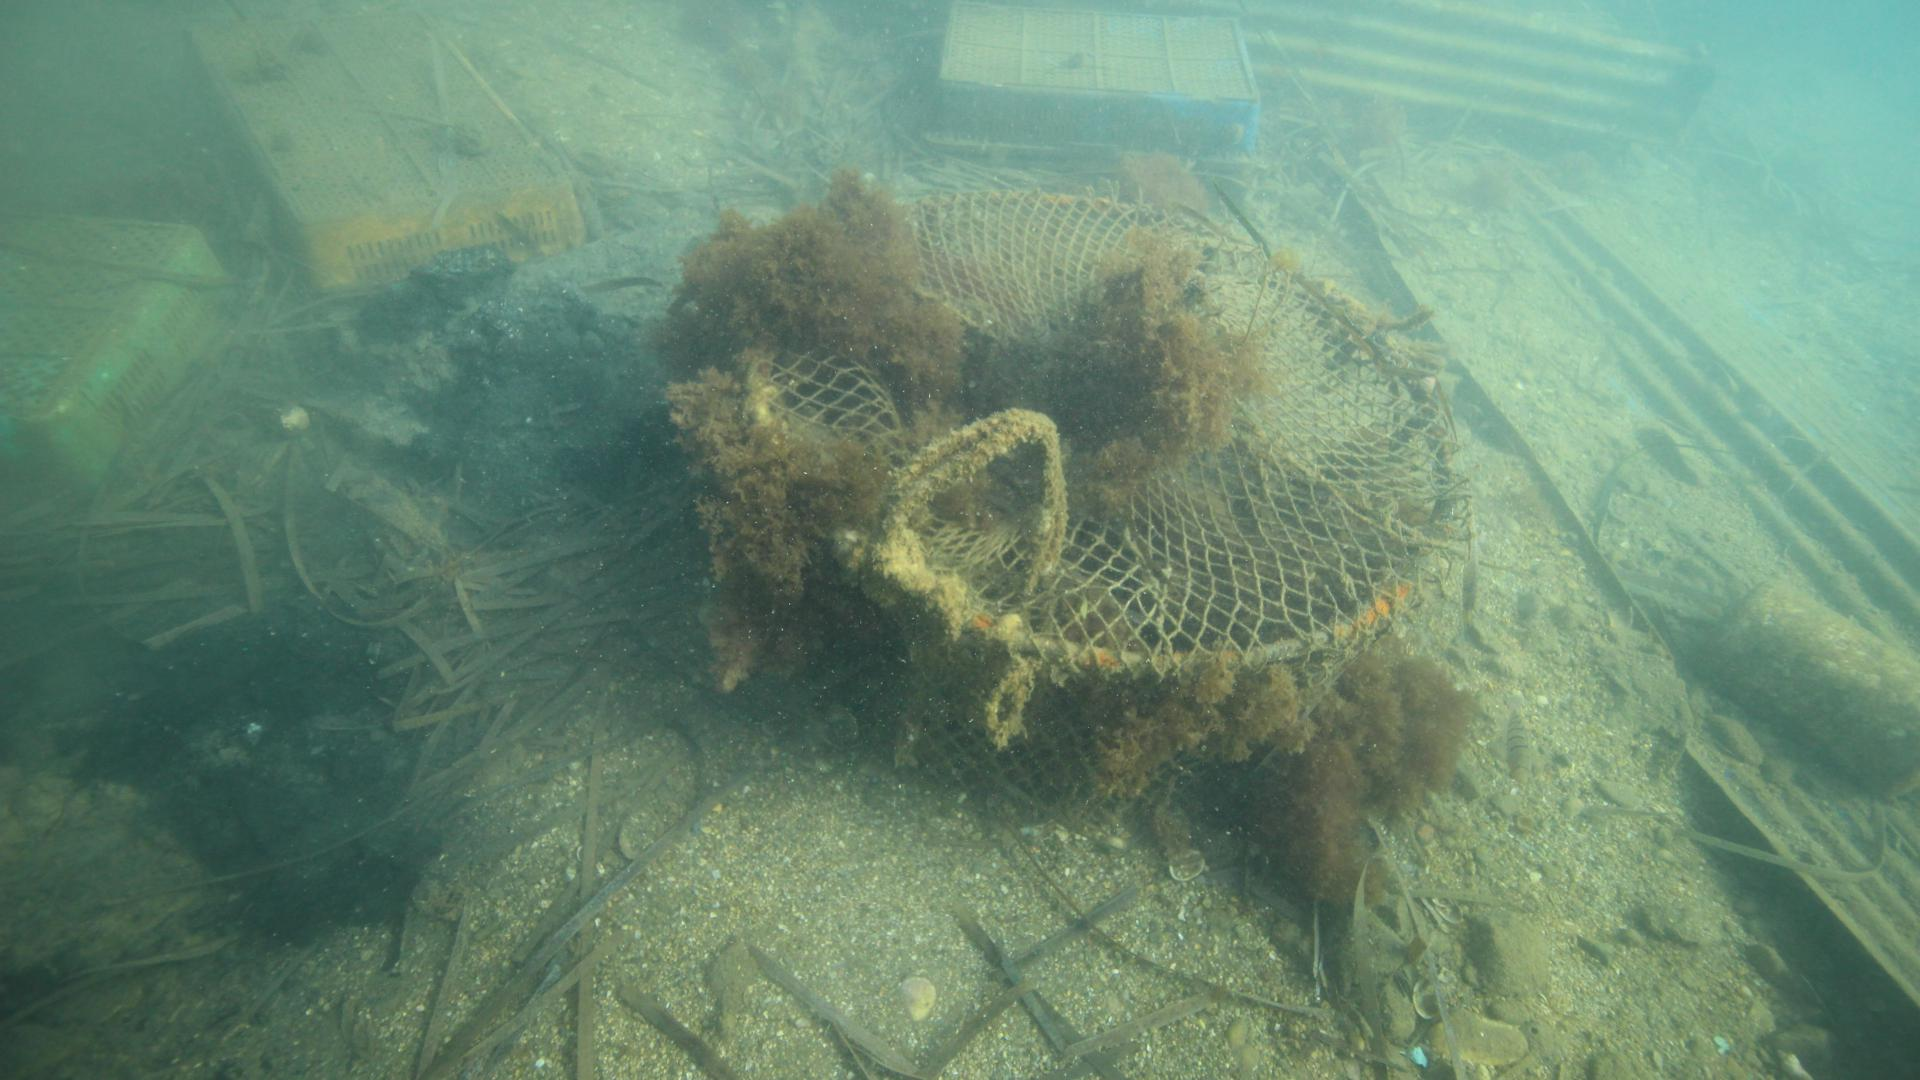circular fish trap: (735, 189, 1474, 825)
